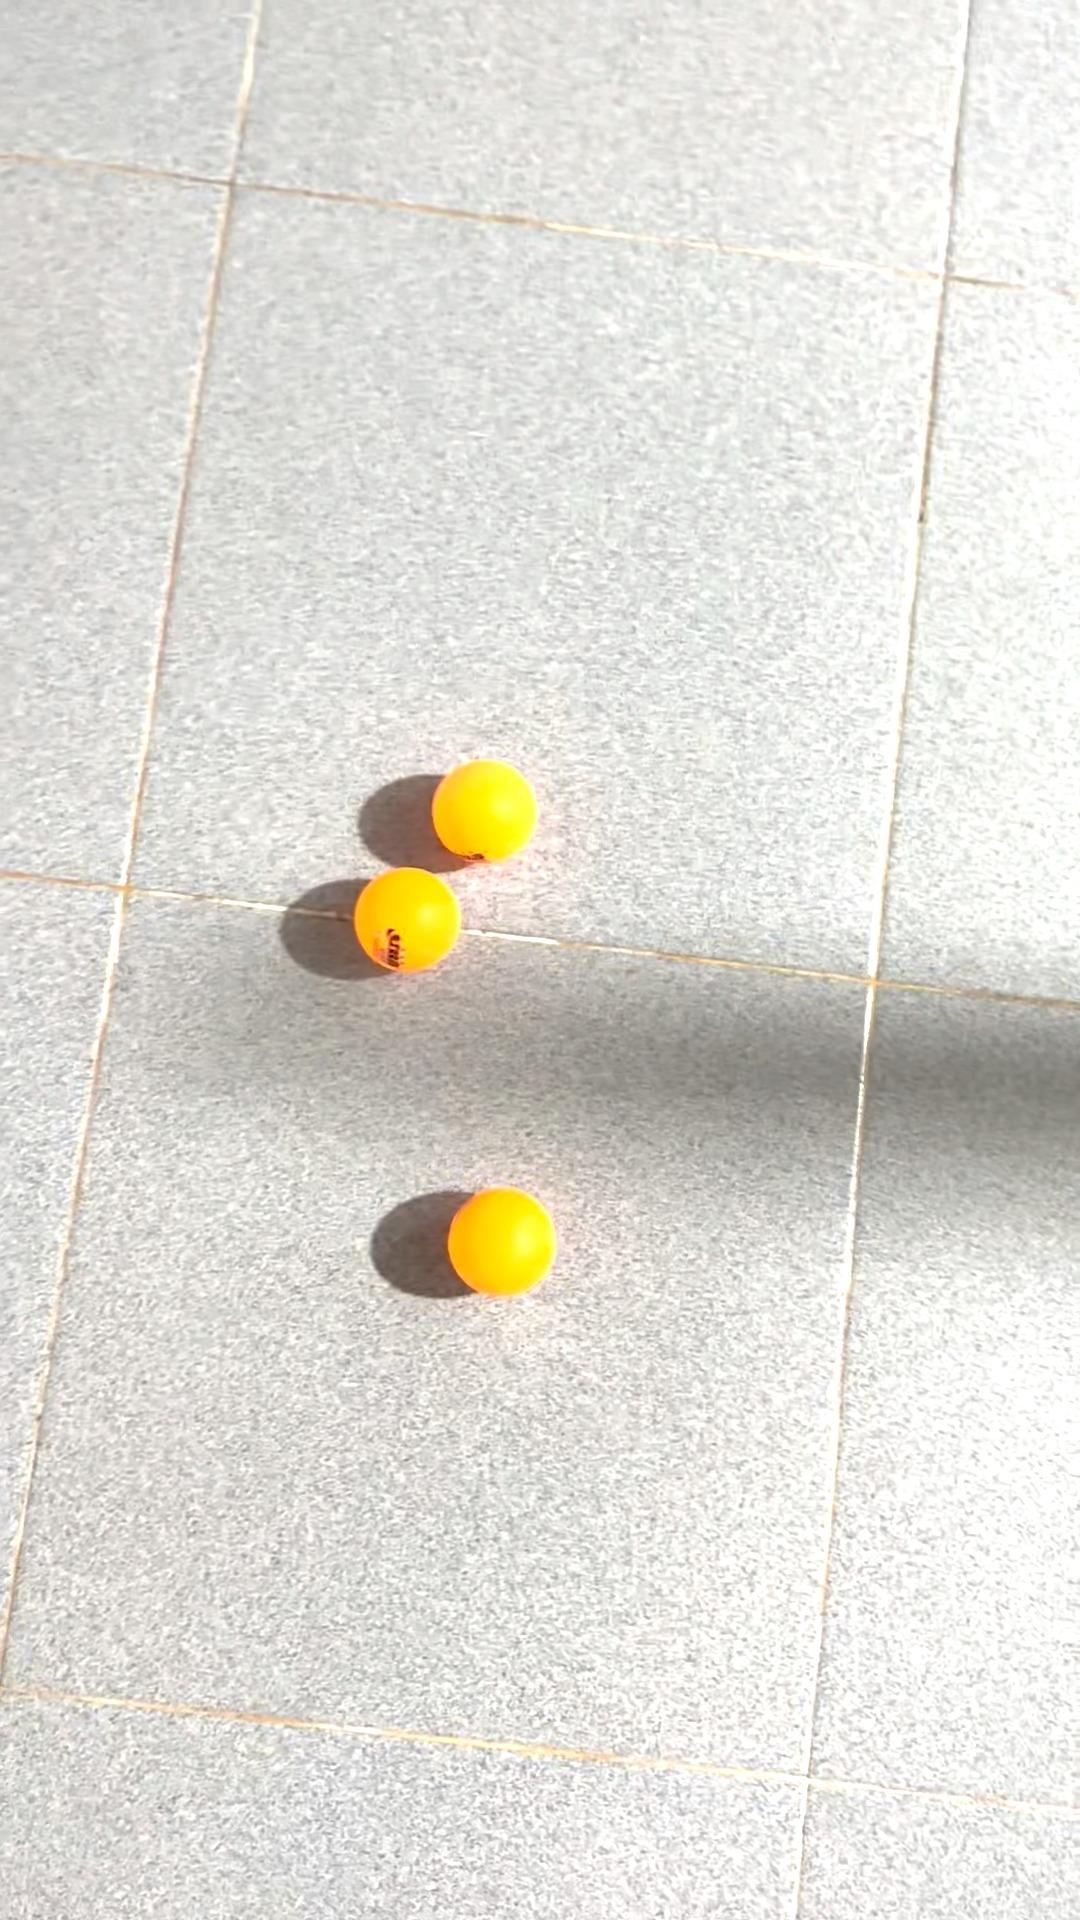oball: (348, 851, 488, 988), (434, 1184, 582, 1308), (431, 745, 555, 869)
